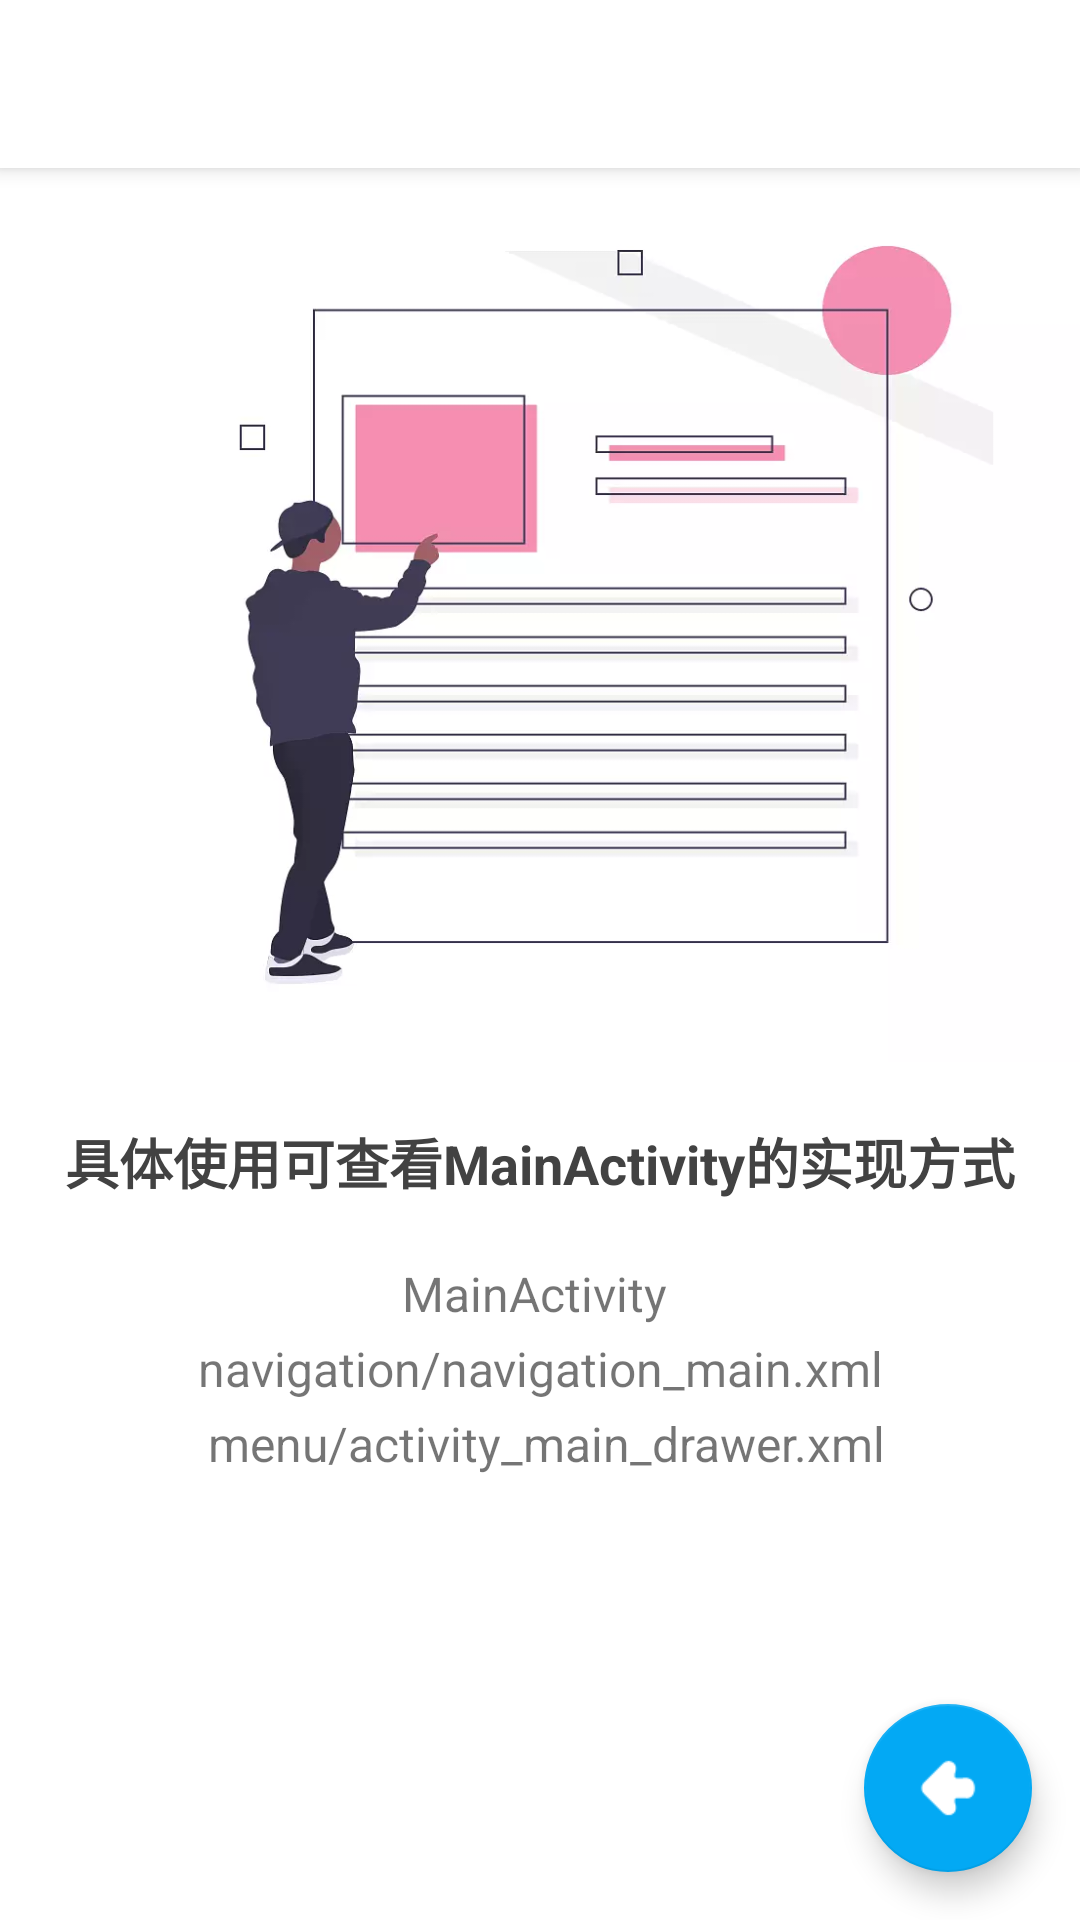

Where icons sit on this 1080px x 1920px app screen, as bbox=[x1, y1, x2, y2]:
back: bbox=[864, 1704, 1032, 1872]
